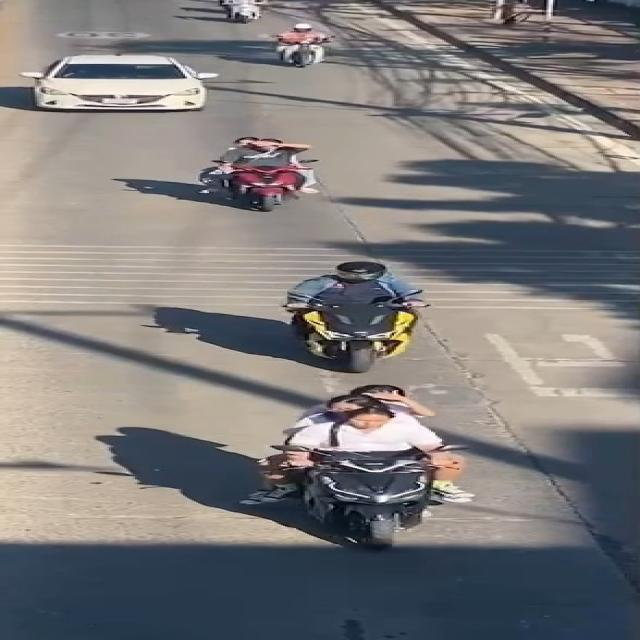car: (12, 47, 242, 119)
